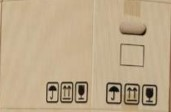stock: (1, 1, 171, 111)
